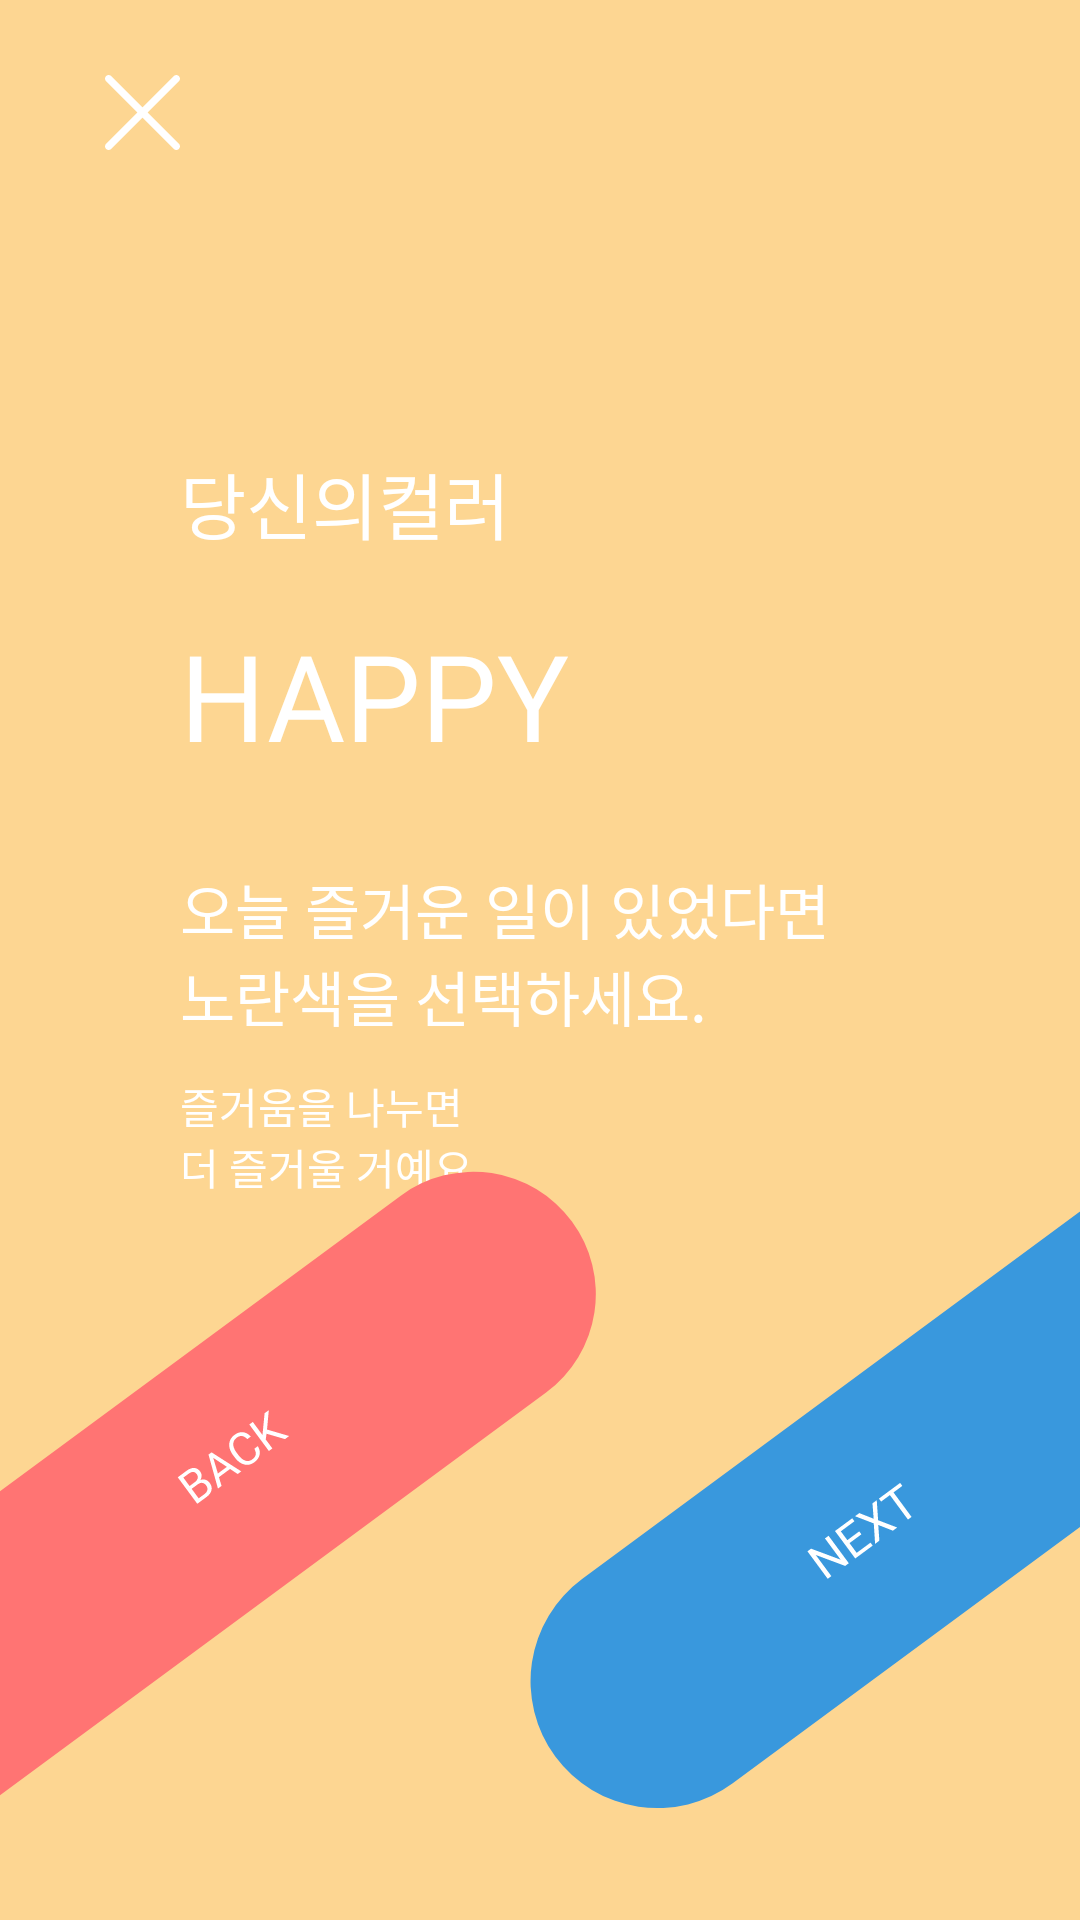

Where icons sit on this 1080×1920 app screen, as (x1, y1, x2, y2):
close: (105, 75, 180, 150)
